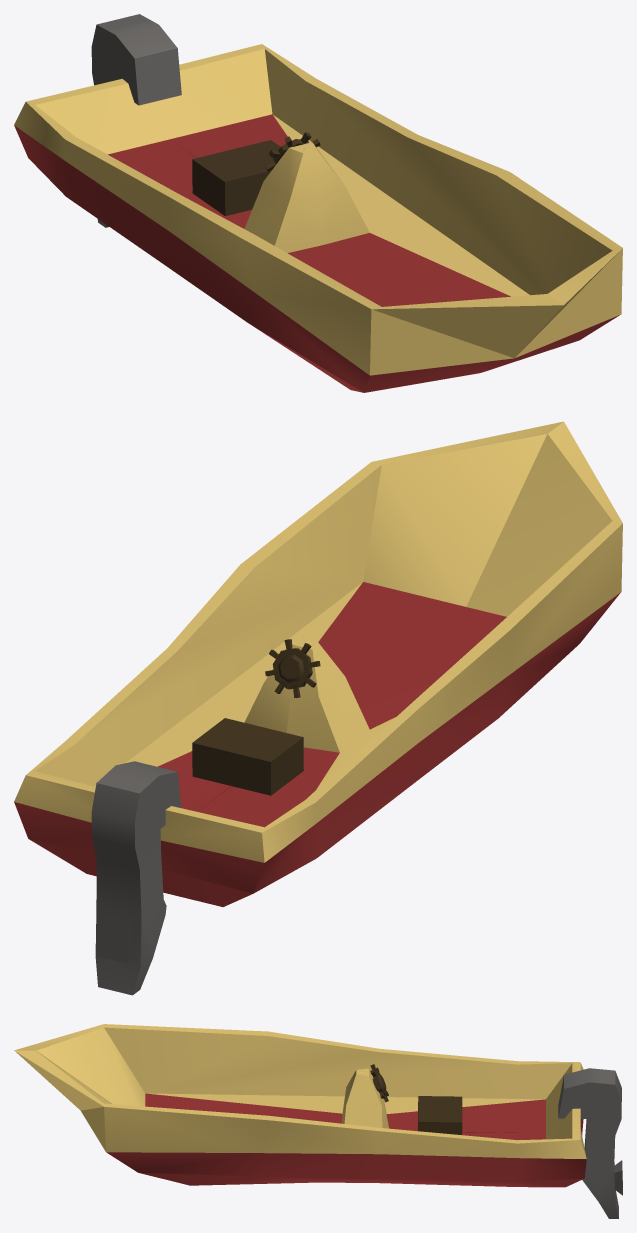
File: Boat.glb
The picture shows the model from 3 angles, top to bottom: view 1: azimuth 30°, elevation 25°; view 2: azimuth 150°, elevation 25°; view 3: azimuth 270°, elevation 25°; orthographic projection. The views are drawn at different scales.
Visible parts, largest first — view 1: Boat; view 2: Boat; view 3: Boat.
Boxes of the visible parts, left/top/right/bottom form: Boat: left=14, top=14, right=622, bottom=392; Boat: left=14, top=421, right=622, bottom=995; Boat: left=14, top=1024, right=622, bottom=1218.
Size of the model in its own units: 0.1615 by 0.1382 by 0.4683.
